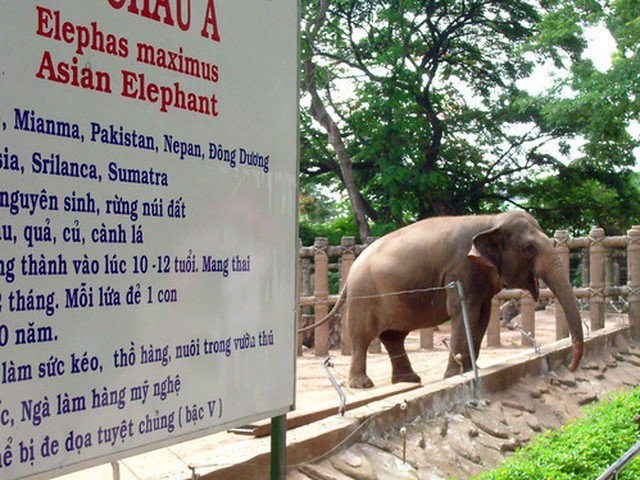Elephant: (327, 206, 591, 380)
